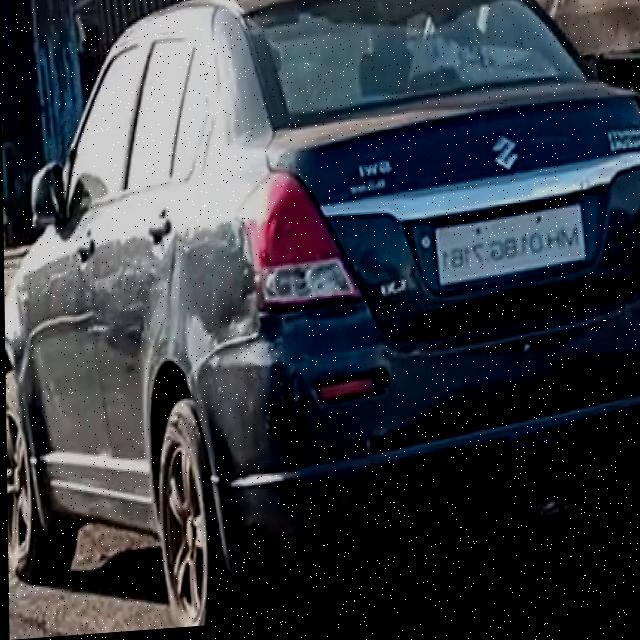plate: (433, 213, 581, 294)
